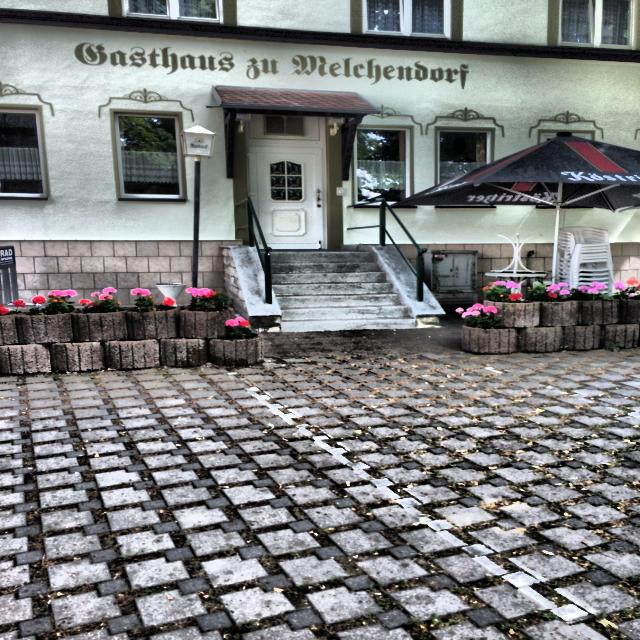escada: (258, 245, 416, 328)
